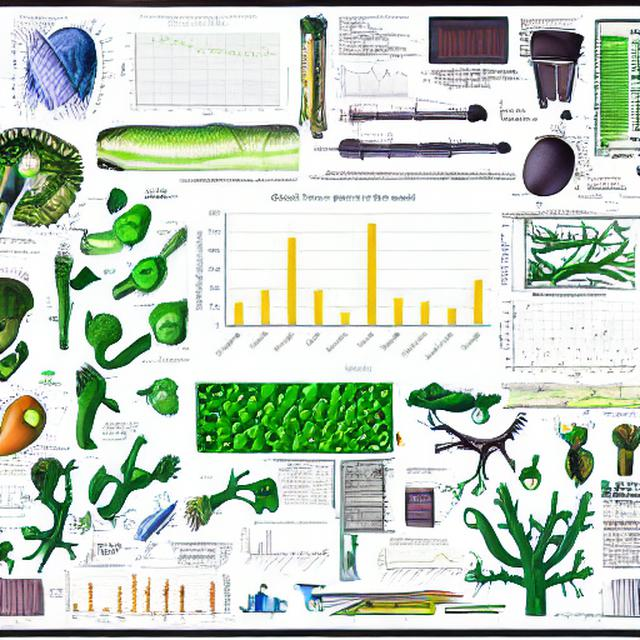Graph: (192, 187, 496, 377), (117, 11, 286, 122), (498, 292, 640, 380), (237, 518, 333, 579), (48, 564, 143, 624), (374, 535, 463, 586), (431, 18, 508, 65), (336, 59, 412, 102)
